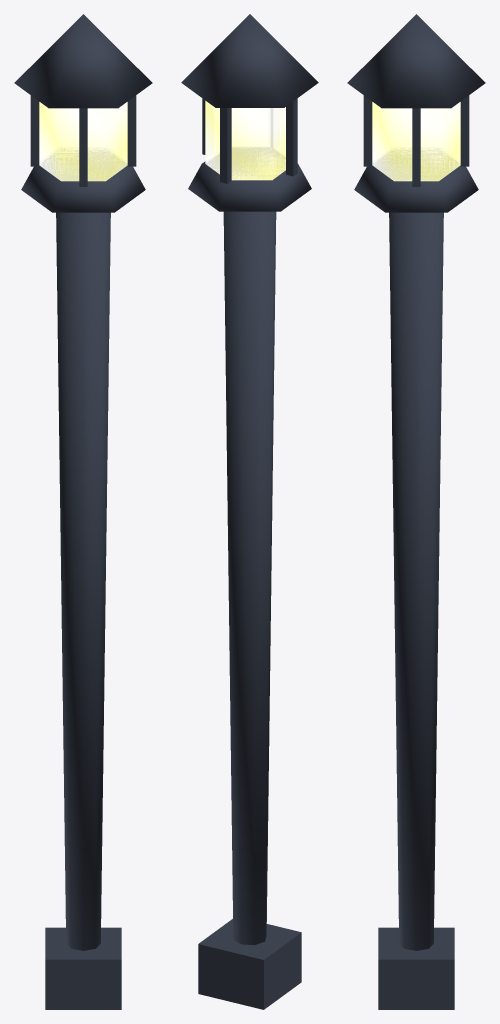
File: xy_town_lamppost.glb
3 renders of one model, left to right at view 1: azimuth 90°, elevation 25°; view 2: azimuth 150°, elevation 25°; view 3: azimuth 270°, elevation 25°, orthographic.
Parts seen in each view (by area): view 1: xy_town_lamppost; view 2: xy_town_lamppost; view 3: xy_town_lamppost.
Part boxes in pixels (left/top/right/bottom): xy_town_lamppost: left=14, top=14, right=152, bottom=1009; xy_town_lamppost: left=181, top=14, right=318, bottom=1009; xy_town_lamppost: left=347, top=14, right=485, bottom=1009.
Size of the model in its own units: 0.3464 by 3.12 by 0.4.
